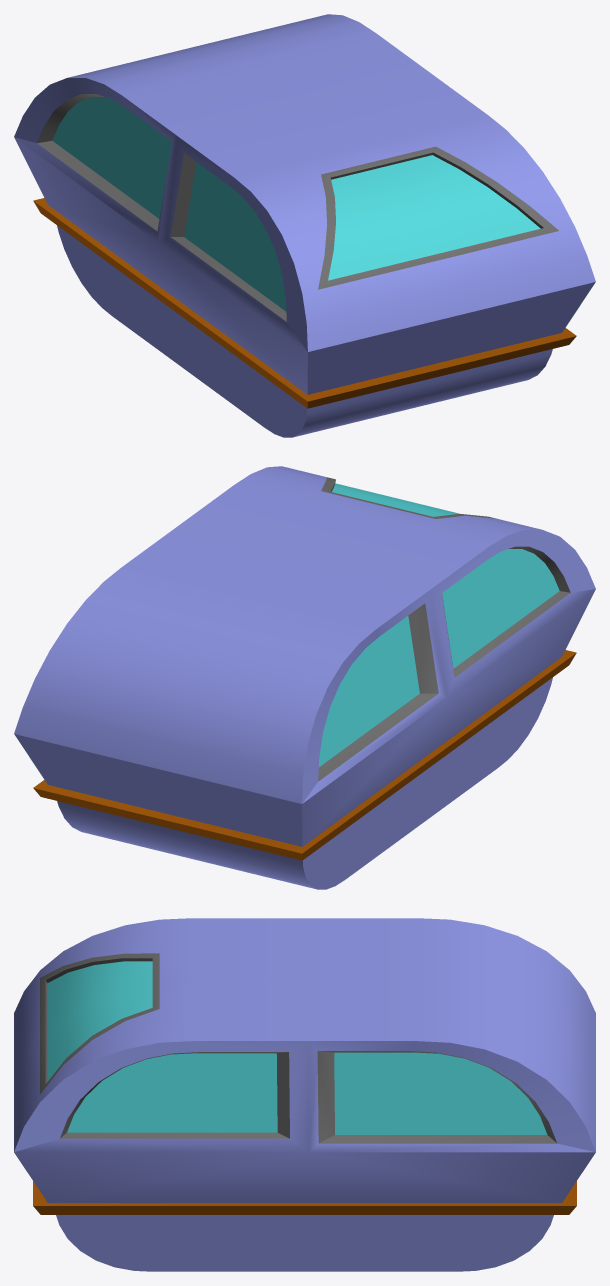
Rendered from Caravan.dae.
3 renders of one model, top to bottom at view 1: azimuth 30°, elevation 25°; view 2: azimuth 150°, elevation 25°; view 3: azimuth 270°, elevation 25°, orthographic.
Visible parts, largest first — view 1: Caravan; view 2: Caravan; view 3: Caravan.
Part boxes in pixels (<box>): Caravan: <box>14,14,595,437</box>; Caravan: <box>14,466,595,889</box>; Caravan: <box>14,918,595,1271</box>.
Size of the model in its own units: 1.12 by 1.99 by 0.889.
